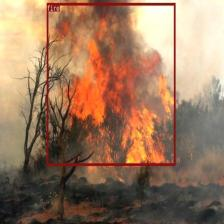fire: (47, 3, 175, 166)
